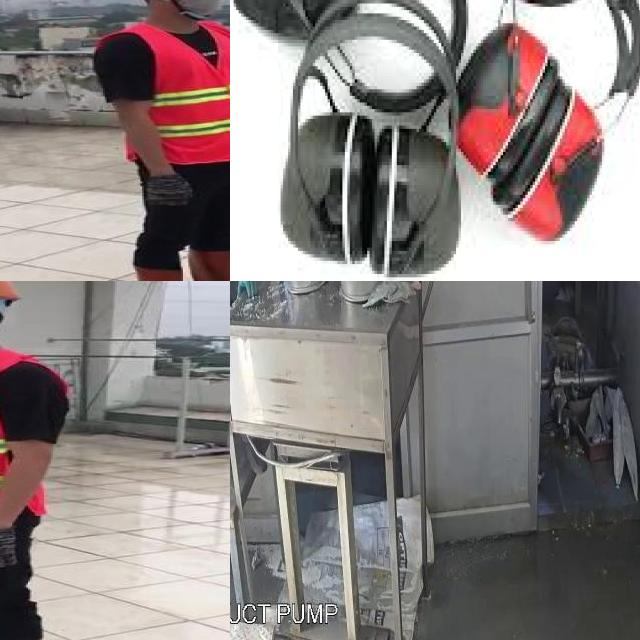Ear-protection: (491, 79, 602, 241), (447, 17, 558, 178), (362, 116, 459, 277), (276, 103, 372, 264), (230, 0, 347, 36)
boots: (119, 263, 224, 281)
face_mask: (165, 0, 230, 16)
hand_glove: (138, 170, 195, 210), (0, 524, 26, 572), (230, 281, 263, 302)
person: (87, 0, 230, 281), (0, 281, 85, 640)
vest: (95, 19, 230, 164), (0, 353, 65, 520)
